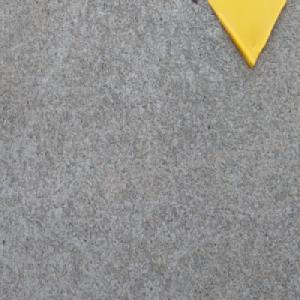PlasticPart: (206, 0, 288, 68)
